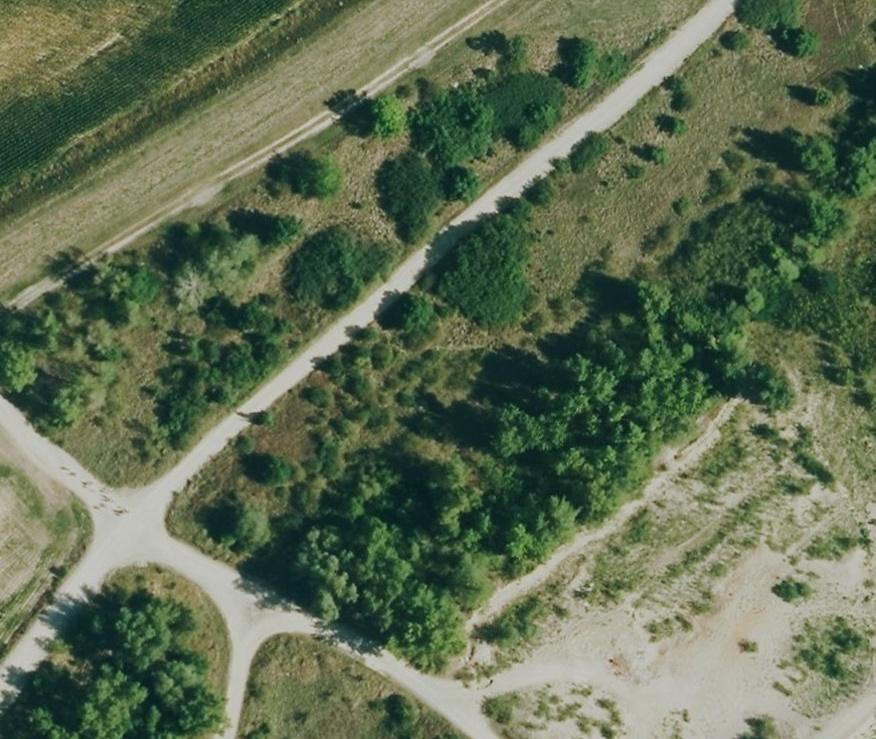field: (459, 370, 876, 737), (0, 0, 484, 299)
forest: (252, 186, 845, 668), (0, 590, 221, 738), (375, 72, 565, 244), (284, 226, 390, 309)
